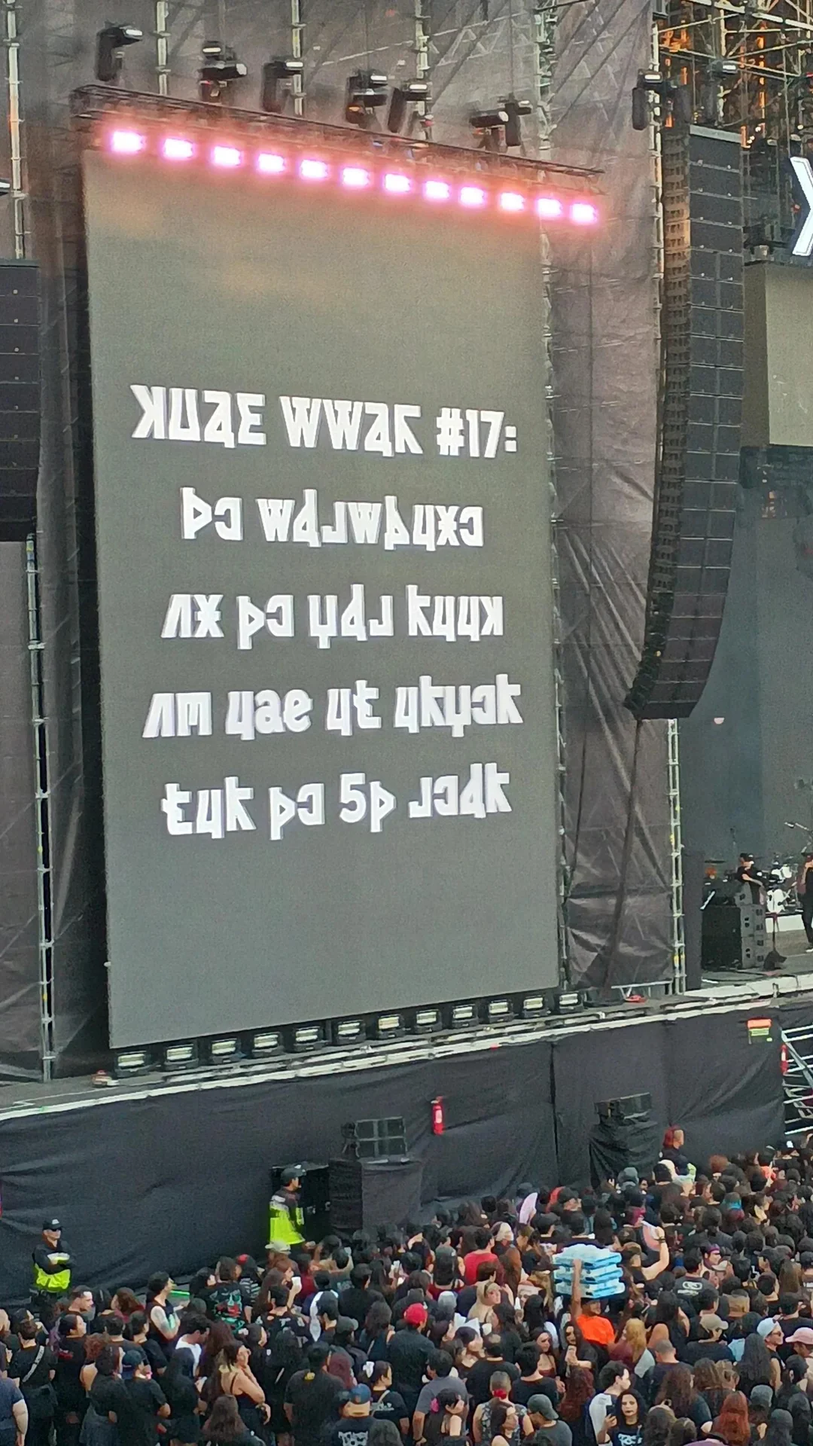1: (218, 191, 233, 220)
5: (158, 367, 176, 393)
7: (228, 192, 244, 221)
A: (171, 190, 192, 221), (95, 183, 113, 215)
M: (58, 180, 82, 212)
O: (78, 182, 96, 214)
P: (132, 185, 154, 217), (154, 188, 175, 220)
R: (185, 189, 206, 221)
T: (112, 184, 130, 215)
a: (136, 231, 158, 261), (159, 277, 176, 306), (218, 362, 233, 391)
d: (145, 281, 162, 308), (210, 325, 226, 351)
e: (100, 232, 120, 263), (124, 280, 141, 307), (139, 371, 157, 395), (222, 323, 239, 347), (206, 366, 221, 393), (217, 238, 232, 262)
f: (75, 372, 93, 399), (167, 323, 183, 347)
h: (179, 235, 198, 263)
i: (75, 281, 92, 307), (68, 329, 83, 355)
m: (227, 281, 242, 306)
n: (91, 280, 108, 307), (206, 237, 221, 262)
o: (105, 327, 123, 354), (91, 373, 109, 400), (153, 326, 170, 351), (215, 281, 231, 306), (204, 282, 220, 306), (186, 326, 202, 350), (195, 237, 209, 264)
p: (121, 233, 143, 261), (164, 236, 184, 262)
r: (191, 278, 208, 305), (105, 369, 122, 396), (229, 362, 244, 390), (198, 322, 214, 347), (234, 322, 250, 347)
s: (82, 327, 102, 354)
t: (133, 326, 149, 350)
th: (80, 230, 104, 261), (173, 370, 191, 397), (110, 282, 127, 309), (126, 373, 143, 400)
u: (120, 325, 136, 352)
y: (149, 235, 169, 262), (173, 280, 190, 306), (193, 367, 208, 394)
